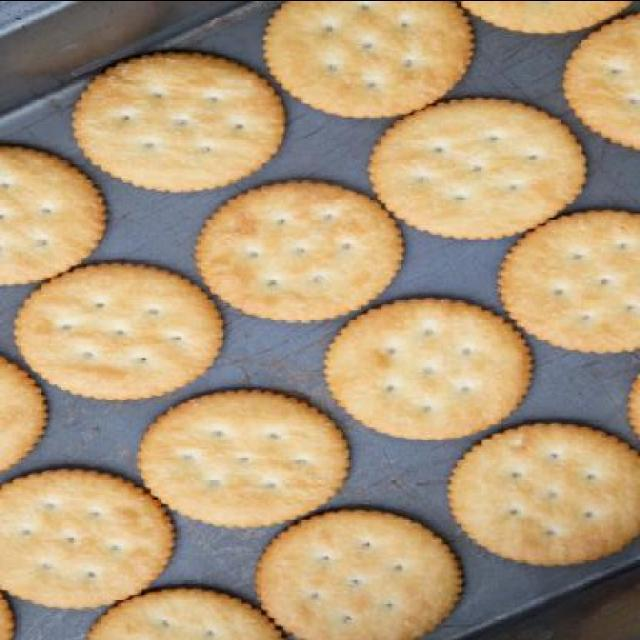Ritz cracker packaged: (10, 6, 632, 628)
